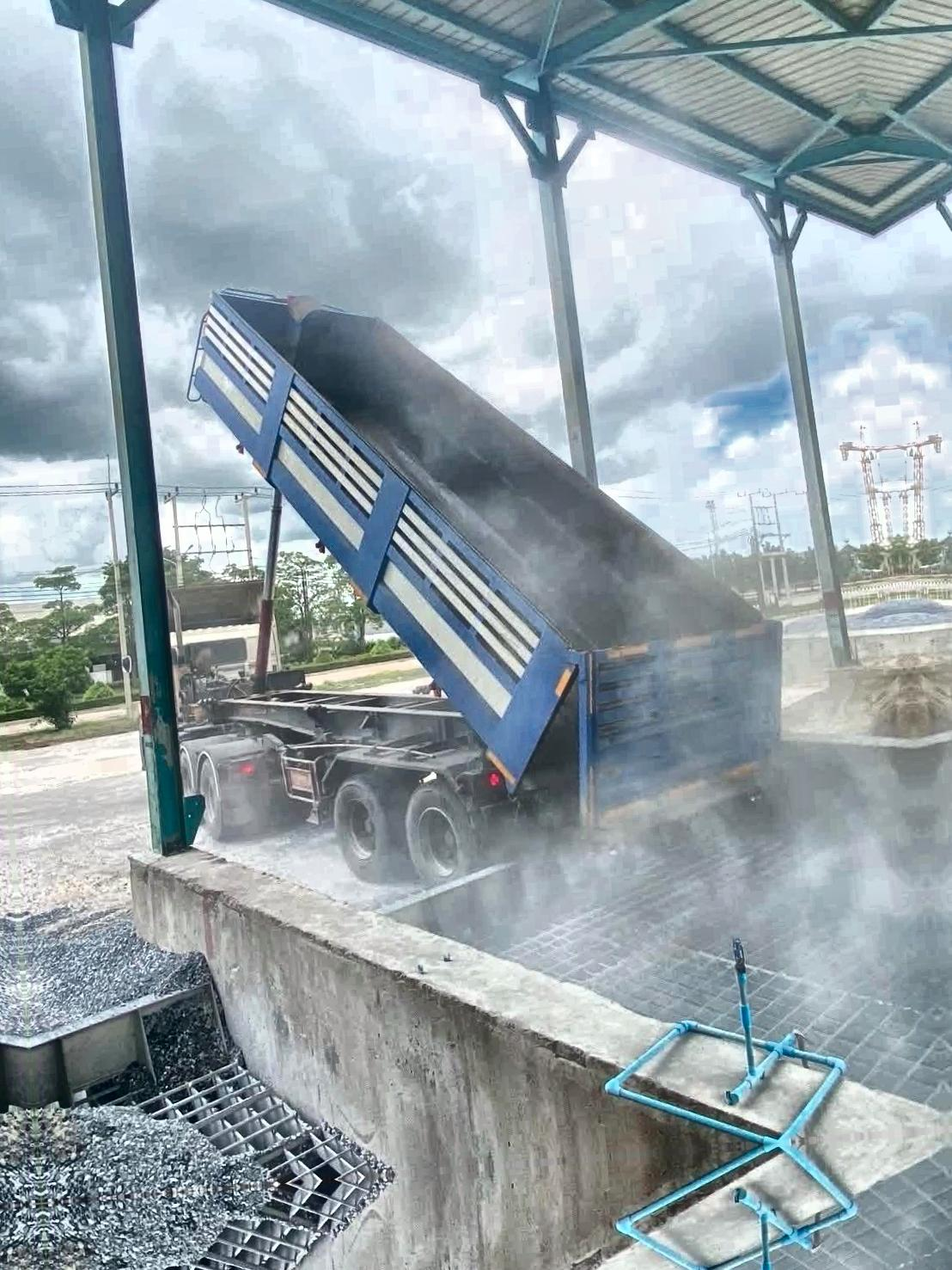gravel: (19, 907, 210, 1034), (36, 1106, 270, 1202), (145, 996, 235, 1090)
